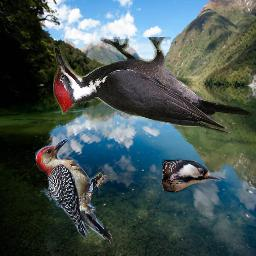Woodpecker: (53, 37, 252, 134), (35, 138, 113, 244), (162, 157, 220, 193)
